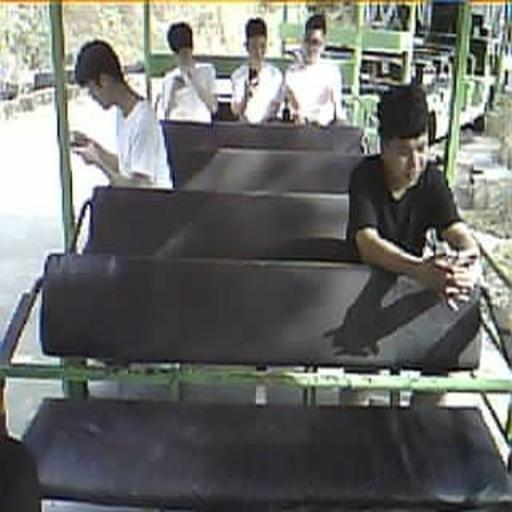persona: (328, 83, 484, 407), (70, 38, 174, 191), (283, 14, 348, 128), (154, 21, 219, 125), (230, 17, 284, 124)
